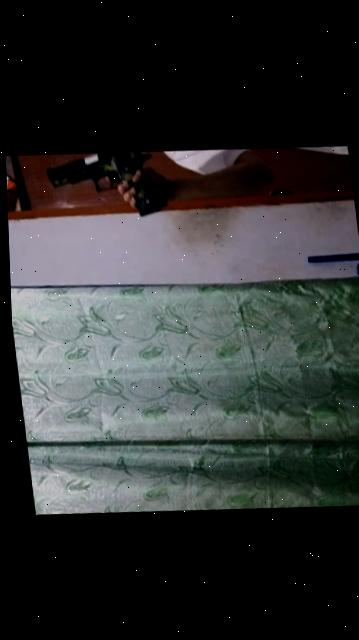pistol: (37, 144, 169, 249)
